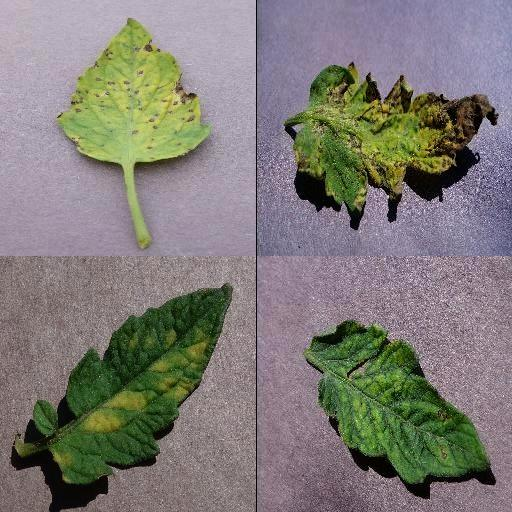Leaf Mold: (48, 282, 234, 484)
Mosaic Virus: (308, 319, 492, 484)
Septoria: (295, 63, 499, 213), (56, 17, 210, 163)
